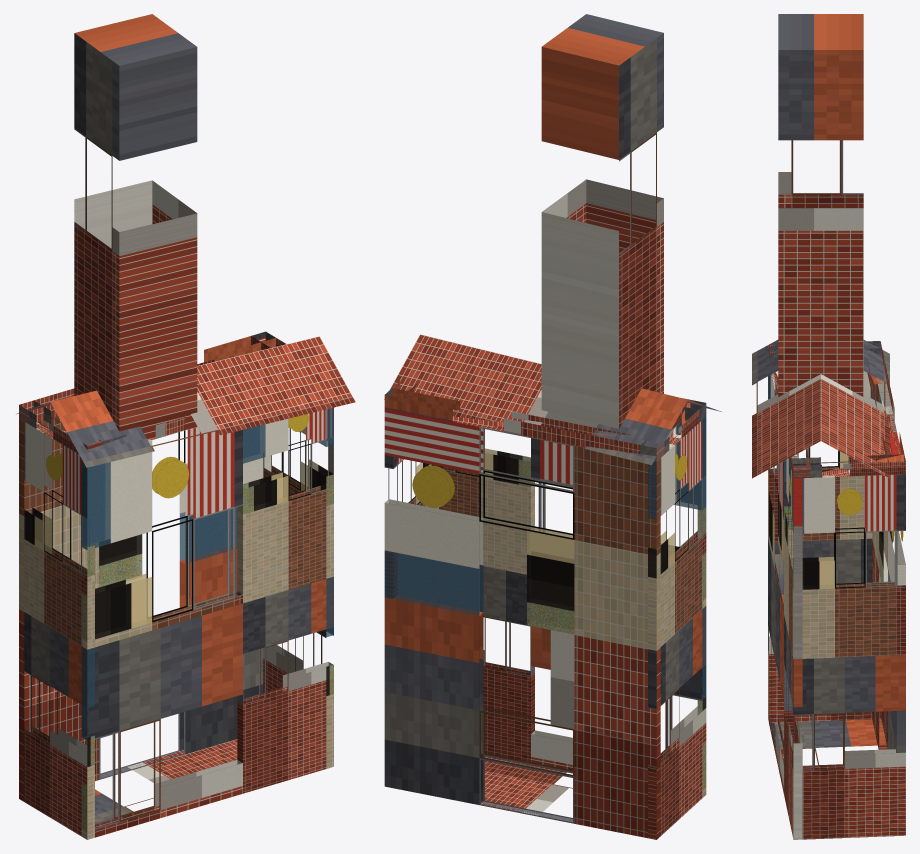
3 renders of one model, left to right at view 1: azimuth 30°, elevation 25°; view 2: azimuth 150°, elevation 25°; view 3: azimuth 270°, elevation 25°, orthographic. The views are drawn at different scales.
Visible parts, largest first — view 1: 238530446__chimney_0_xb, 238530446__wall_3_xb, 238530446__wall_4_xb, 238530446__wall_2_xb, 238530446__wall_1_xb, 238530446_roof_-1_xb, 238530446__wall_3_xf, 238530446__wall_0_xb, 238530446__wall_1_xf, 238530446__base, 238530446__wall_2_xf, 238530446__wall_4_xf (+3 smaller); view 2: 238530446__wall_1_xb, 238530446__chimney_0_xb, 238530446__wall_2_xb, 238530446__wall_4_xb, 238530446_roof_1_xb, 238530446__wall_1_xf, 238530446__wall_3_xb, 238530446__cornice_1, 238530446__base, 238530446__wall_3_xf, 238530446__wall_2_xf, 238530446__wall_0_xb (+2 smaller); view 3: 238530446__wall_0_xb, 238530446__chimney_0_xb, 238530446__wall_4_xb, 238530446__wall_2_xb, 238530446_roof_-1_xb, 238530446_roof_1_xb, 238530446__wall_3_xb, 238530446__wall_1_xb, 238530446__base, 238530446__cornice_0, 238530446__wall_0_xf, 238530446__cornice_1 (+2 smaller).
Boxes of the visible parts, bbox=[...] form: 238530446__chimney_0_xb: bbox=[74, 14, 197, 439]; 238530446__wall_3_xb: bbox=[81, 427, 242, 839]; 238530446__wall_4_xb: bbox=[237, 408, 333, 793]; 238530446__wall_2_xb: bbox=[24, 422, 94, 839]; 238530446__wall_1_xb: bbox=[19, 416, 271, 801]; 238530446_roof_-1_xb: bbox=[50, 336, 355, 467]; 238530446__wall_3_xf: bbox=[82, 460, 187, 830]; 238530446__wall_0_xb: bbox=[263, 407, 333, 768]; 238530446__wall_1_xf: bbox=[99, 508, 236, 586]; 238530446__base: bbox=[95, 739, 237, 823]; 238530446__wall_2_xf: bbox=[24, 422, 94, 766]; 238530446__wall_4_xf: bbox=[237, 425, 287, 513]; 238530446__wall_1_xb: bbox=[384, 408, 660, 839]; 238530446__chimney_0_xb: bbox=[541, 14, 663, 428]; 238530446__wall_2_xb: bbox=[648, 417, 706, 839]; 238530446__wall_4_xb: bbox=[439, 448, 534, 762]; 238530446_roof_1_xb: bbox=[384, 334, 687, 465]; 238530446__wall_1_xf: bbox=[385, 465, 574, 633]; 238530446__wall_3_xb: bbox=[531, 417, 706, 797]; 238530446__cornice_1: bbox=[384, 388, 664, 461]; 238530446__base: bbox=[481, 756, 572, 815]; 238530446__wall_3_xf: bbox=[676, 417, 705, 788]; 238530446__wall_2_xf: bbox=[648, 461, 705, 714]; 238530446__wall_0_xb: bbox=[384, 455, 442, 598]; 238530446__wall_0_xb: bbox=[792, 474, 905, 839]; 238530446__chimney_0_xb: bbox=[778, 14, 863, 396]; 238530446__wall_4_xb: bbox=[784, 454, 802, 839]; 238530446__wall_2_xb: bbox=[768, 371, 881, 722]; 238530446_roof_-1_xb: bbox=[752, 340, 820, 478]; 238530446_roof_1_xb: bbox=[821, 340, 889, 478]; 238530446__wall_3_xb: bbox=[768, 371, 790, 793]; 238530446__wall_1_xb: bbox=[871, 378, 905, 752]; 238530446__base: bbox=[771, 719, 886, 765]; 238530446__cornice_0: bbox=[792, 454, 905, 477]; 238530446__wall_0_xf: bbox=[793, 478, 834, 712]; 238530446__cornice_1: bbox=[866, 342, 904, 461].
Bounding box in the file's own units: 0.5185 × 1.4 × 0.2701.
1 material, 1 textured.
